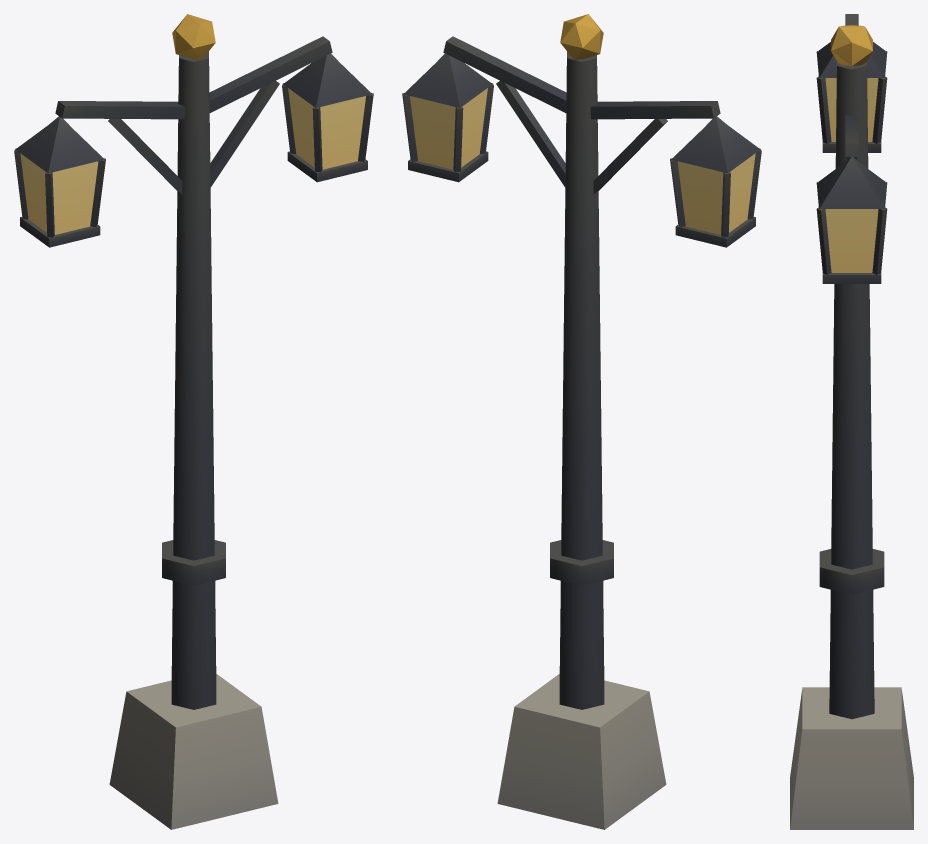
The model's file is lantern_post_double.glb.
The picture shows the model from 3 angles, left to right: view 1: azimuth 30°, elevation 25°; view 2: azimuth 150°, elevation 25°; view 3: azimuth 270°, elevation 25°; orthographic projection.
Parts seen in each view (by area): view 1: lantern_post_double; view 2: lantern_post_double; view 3: lantern_post_double.
Boxes of the visible parts, <box> form: lantern_post_double: <box>14,14,373,829</box>; lantern_post_double: <box>402,14,761,829</box>; lantern_post_double: <box>790,14,913,829</box>.
Bounding box in the file's own units: 6.14 × 13.84 × 2.
Materials: 1 (1 with a texture image).
